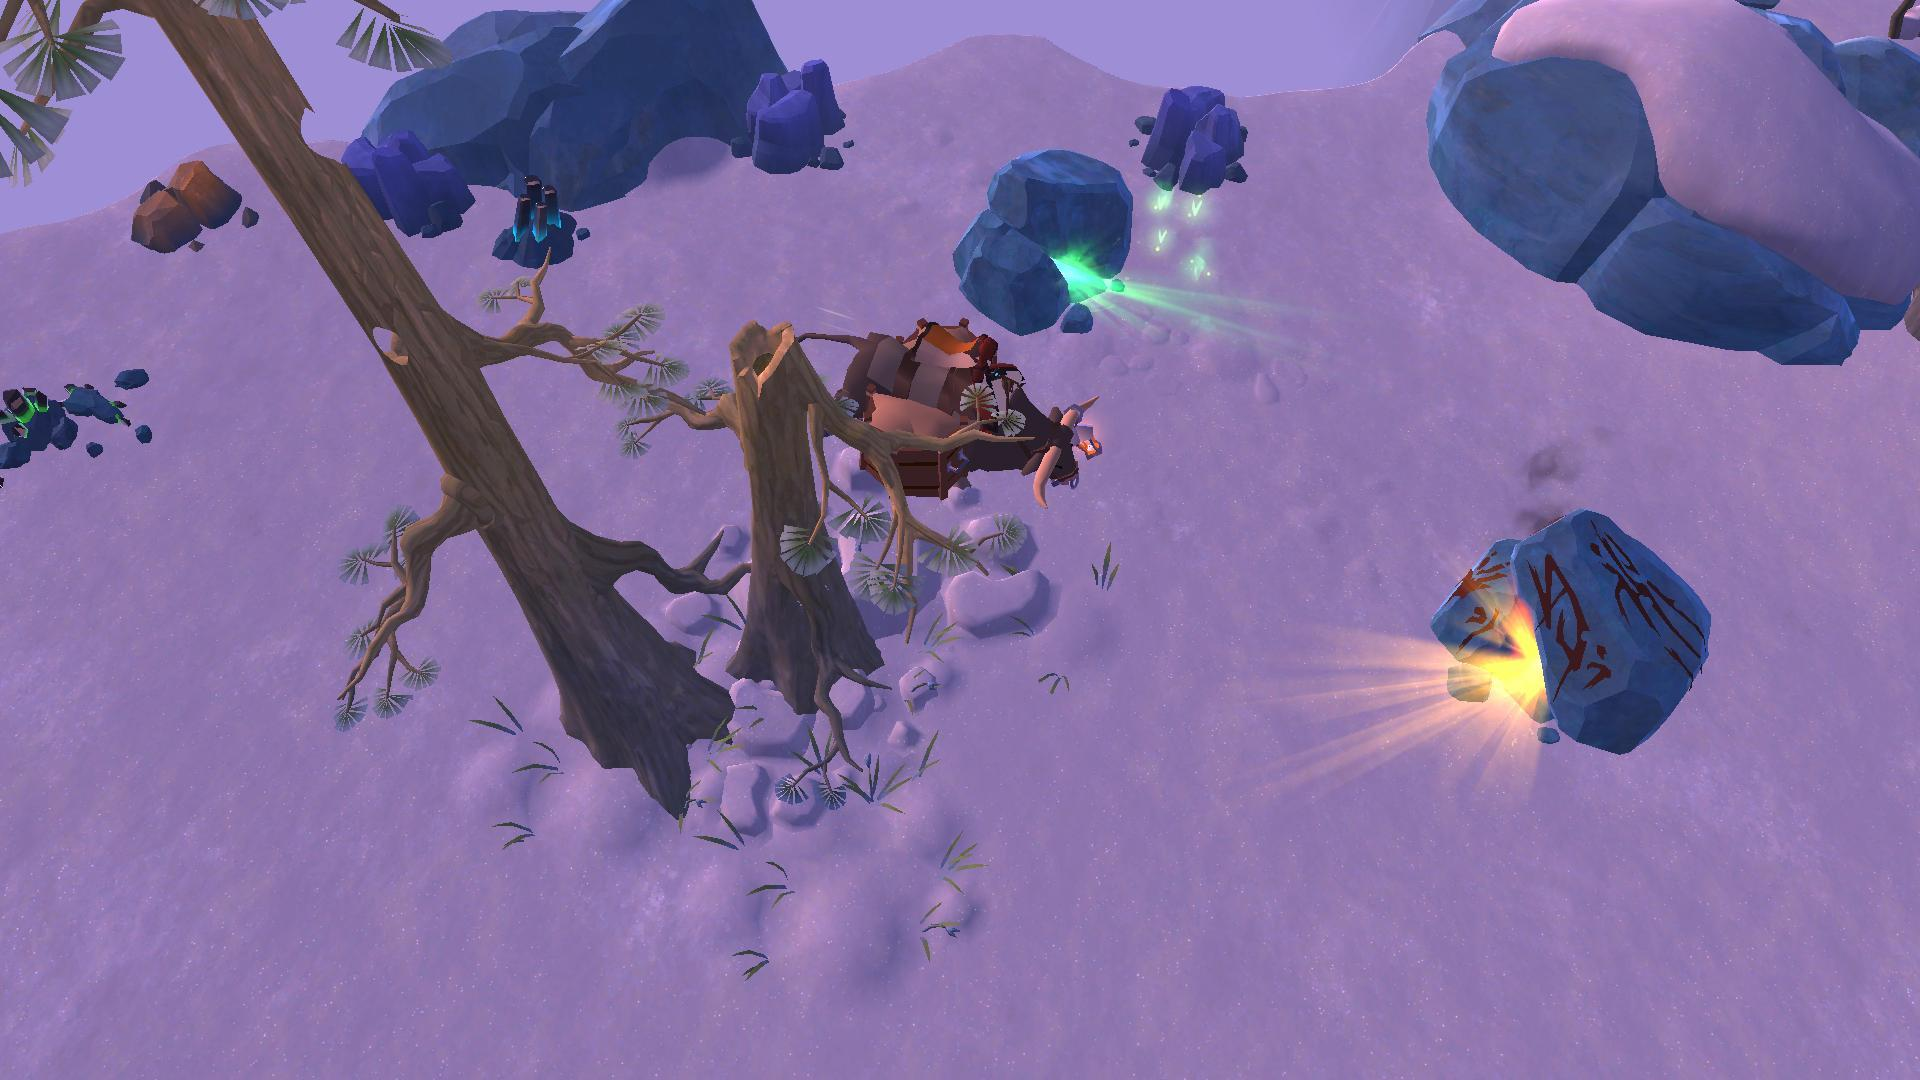ore_t4: (502, 170, 566, 245)
rock_t4: (339, 121, 479, 233), (1139, 71, 1255, 196), (736, 53, 852, 177)
